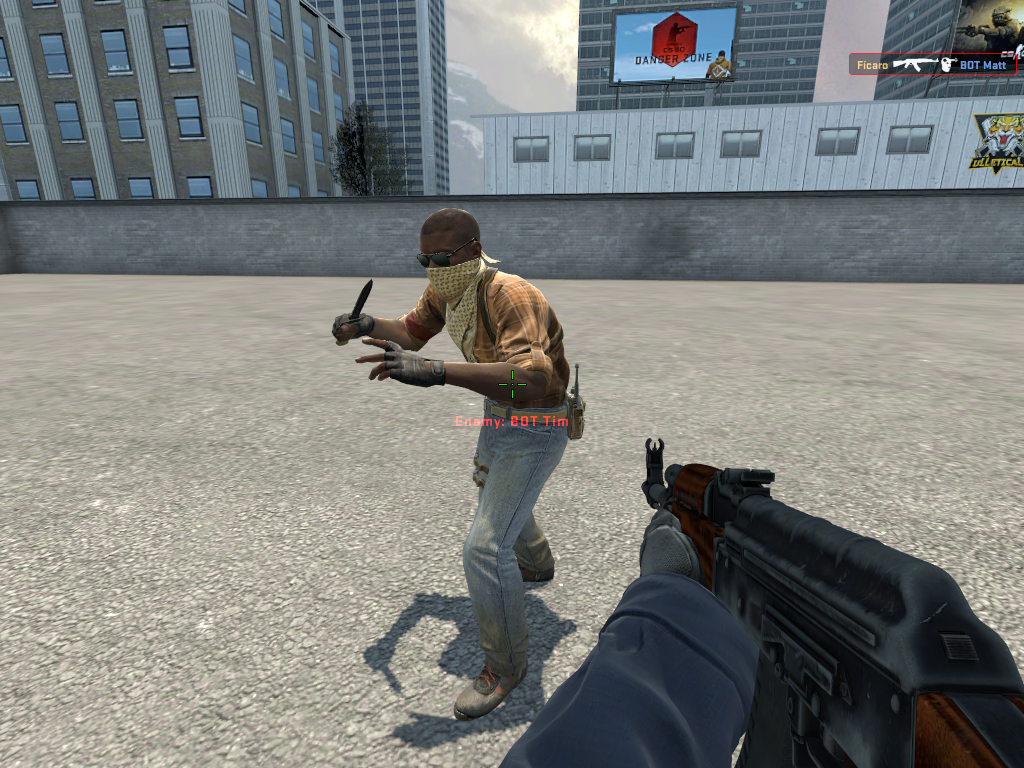tr head: (411, 200, 495, 302)
